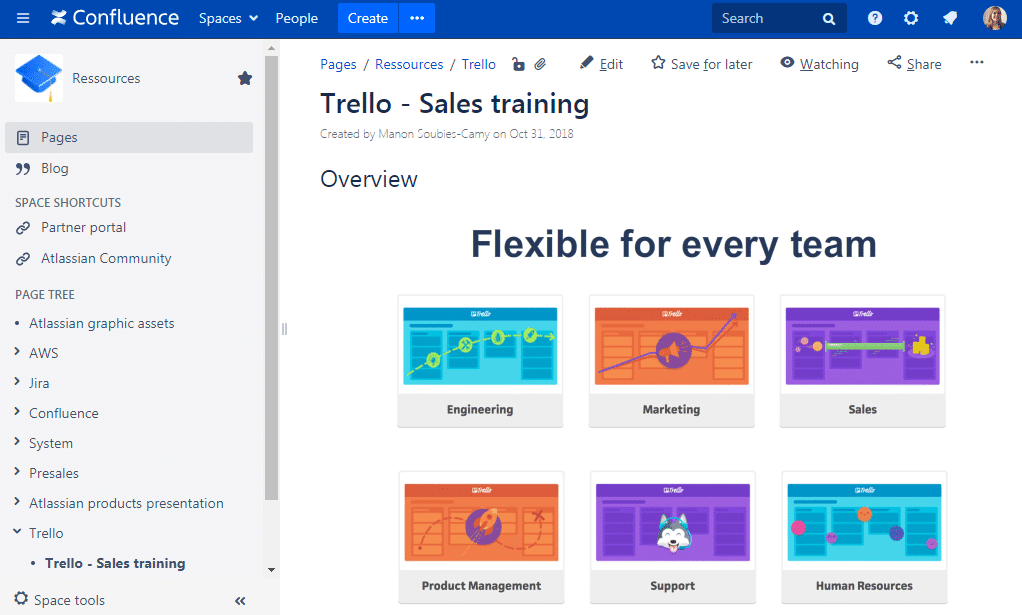button_create: (336, 1, 398, 37)
search_box: (711, 3, 850, 37)
